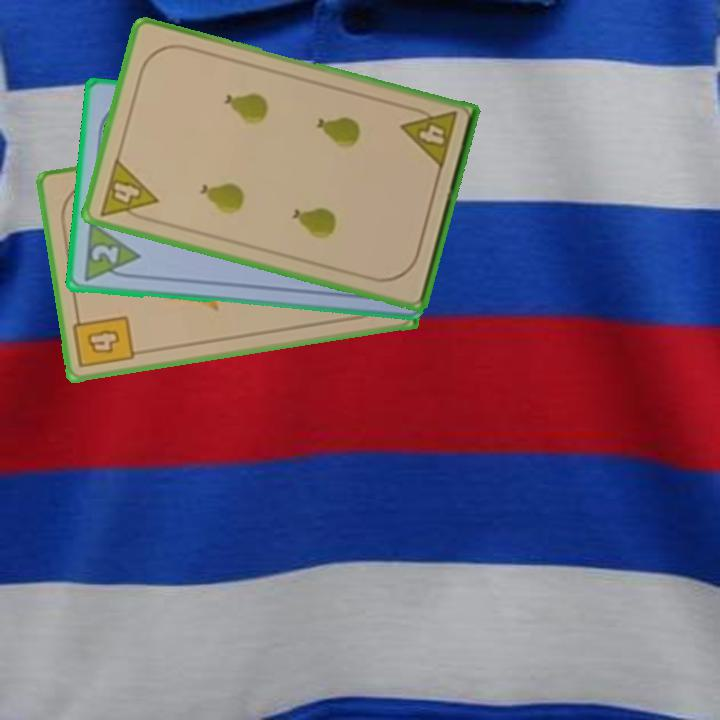2p: (79, 219, 142, 285)
4b: (70, 309, 137, 371)
4p: (95, 154, 161, 226), (398, 102, 460, 172)
